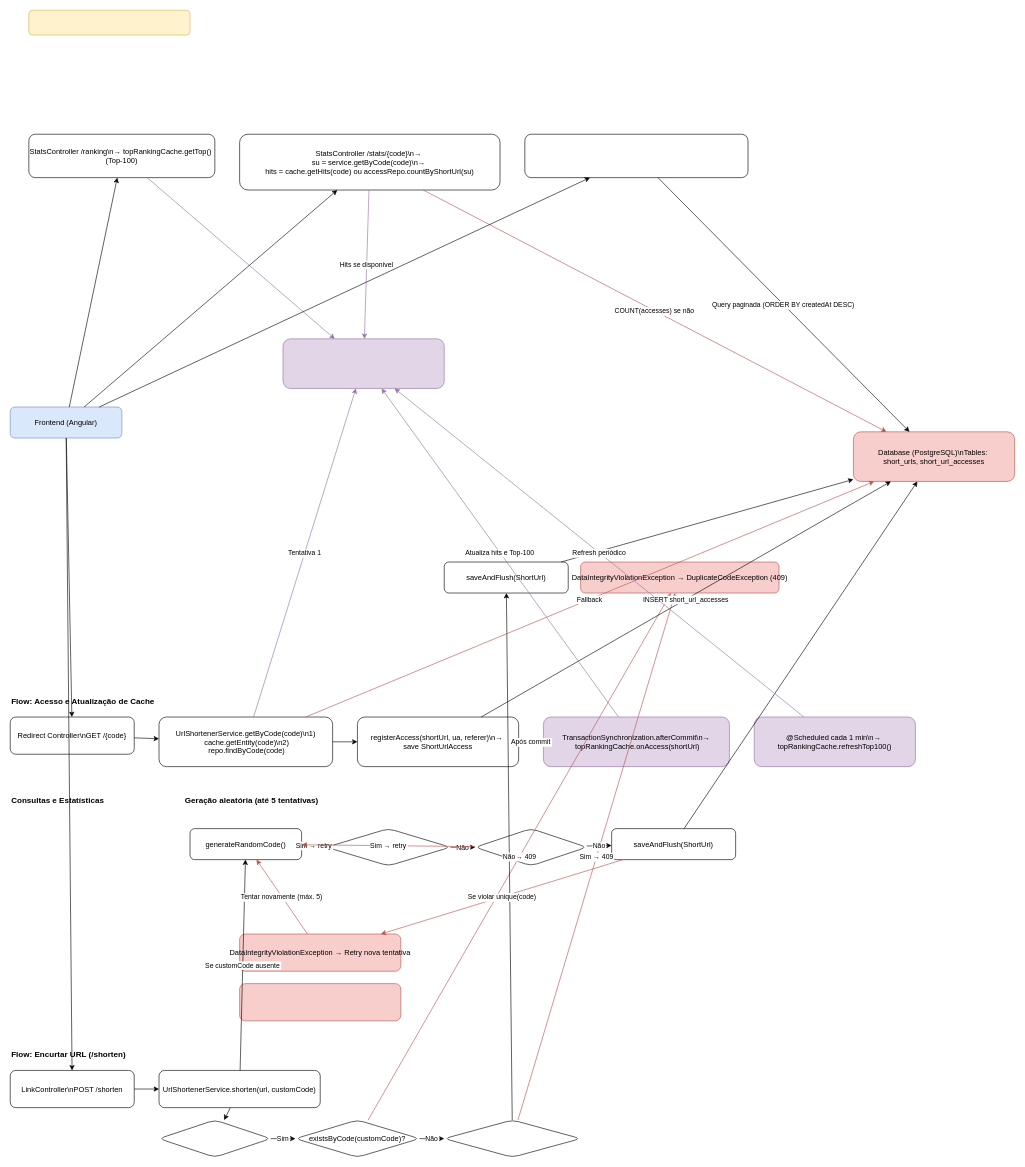
Some shapes in this 1025 by 1167 pixel diagram are drawn without their labels. Each missing label, with the centre of its shape:
"Backend (Spring Boot)" goes at point (109, 22).
"cache.containsCode(code)?" goes at point (388, 847).
"cache.containsCode(customCode)?" goes at point (512, 1138).
"customCode informado?" goes at point (214, 1138).
"existsByCode(code)?" goes at point (531, 847).
"Falha após 5 tentativas → IllegalStateException" goes at point (320, 1002).
"TopRankingCache\nTop-100 + Hits (code→count)" goes at point (363, 363).
"UrlShortenerService.listStats(Pageable)\n→ ShortUrlRepository.findAllStats(Page)" goes at point (636, 156).
